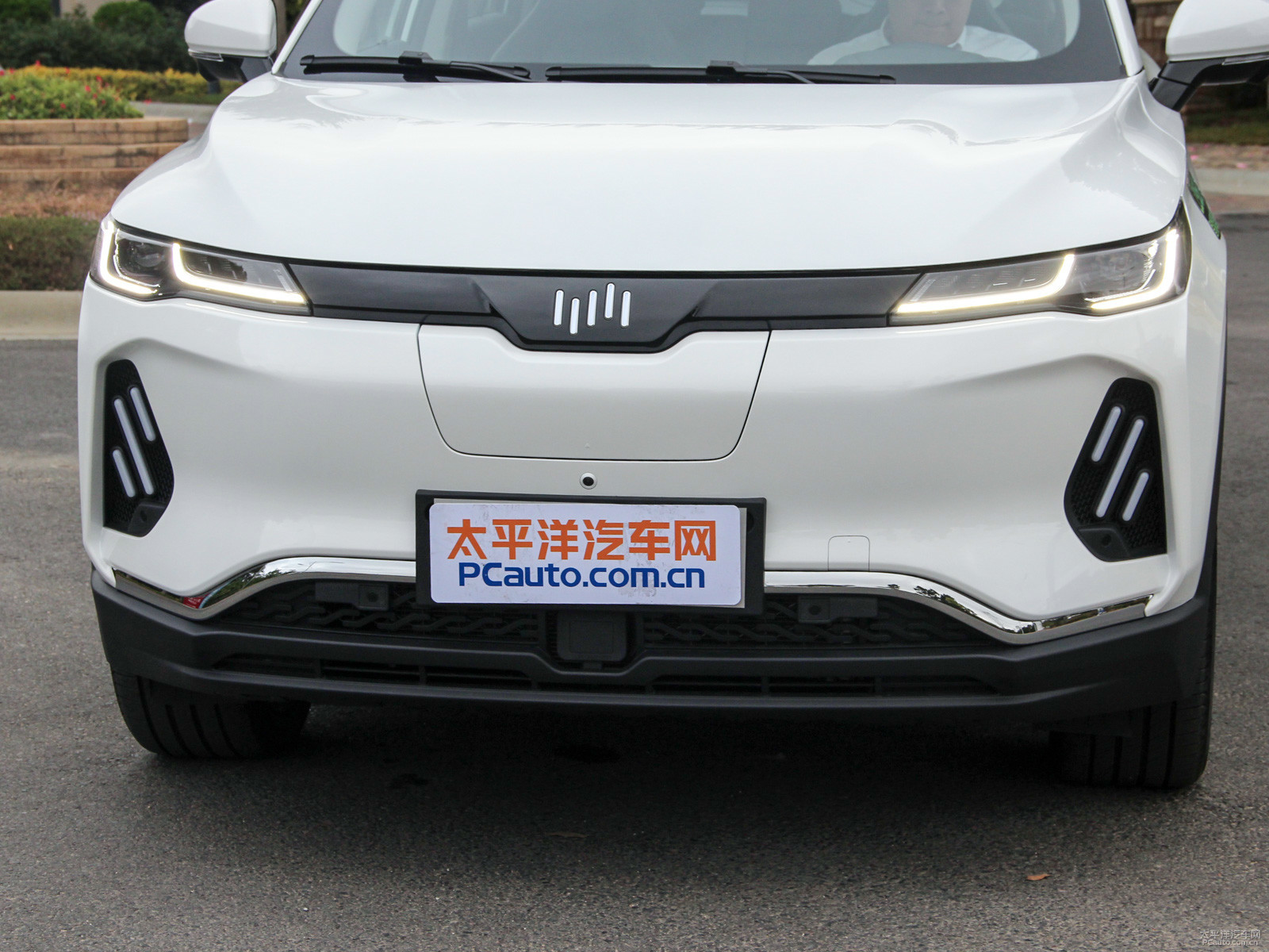WELTMEISTER: (554, 284, 630, 335)
